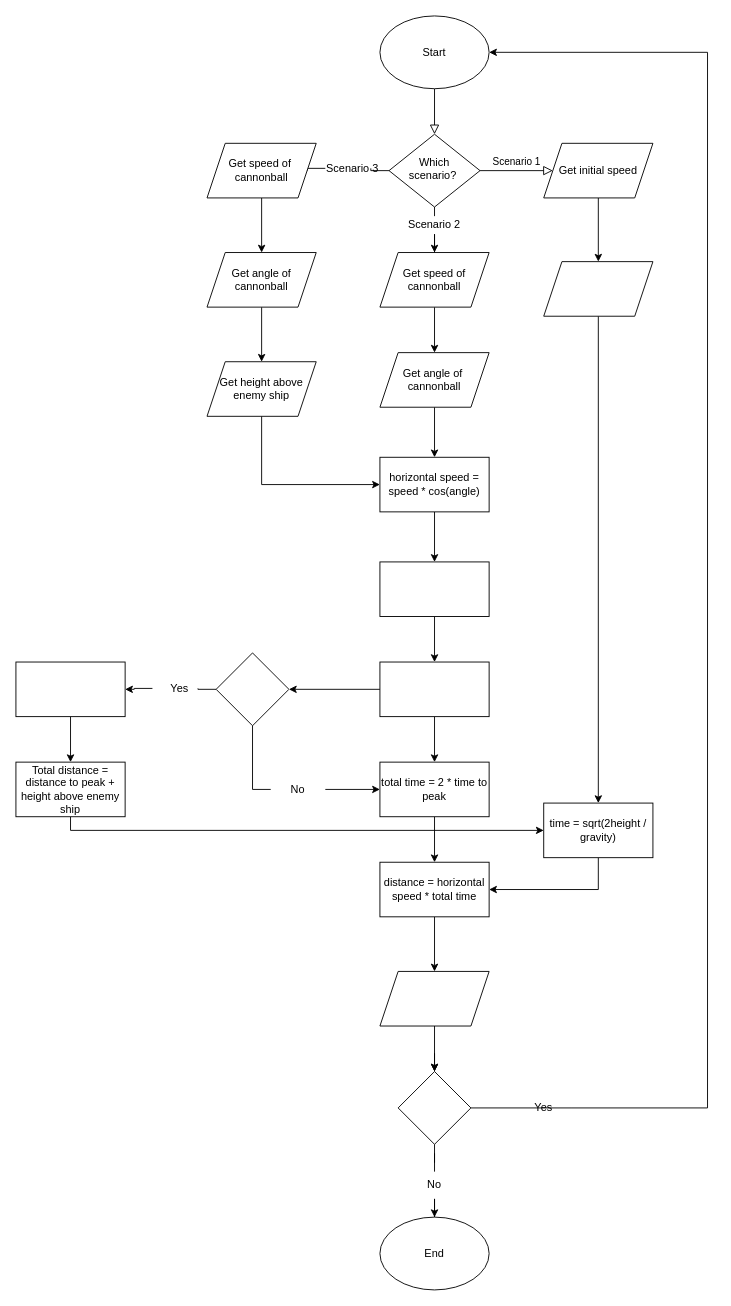
This 731x1306 diagram has some shape labels left out. The box of each missing label's shape, as (x1, y1, x2, y2) in pixels:
Another?: (397, 1071, 471, 1144)
display distance: (379, 971, 489, 1026)
distance to peak = (vertical speed)^2 / 2gravity: (15, 661, 125, 717)
Get initial height: (543, 261, 653, 316)
Is this scenario 3?: (215, 652, 289, 726)
time to peak = vertical speed / gravity: (379, 661, 489, 717)
vertical speed = speed * sin(angle): (379, 561, 489, 617)
